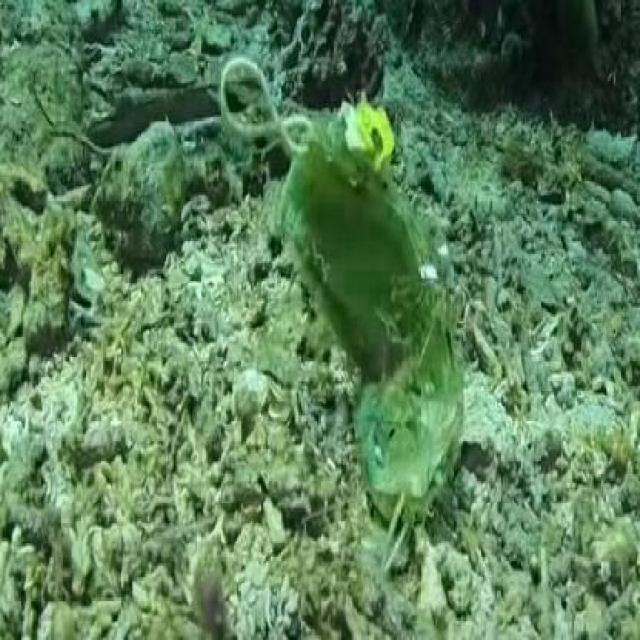Mask: (218, 55, 462, 570)
